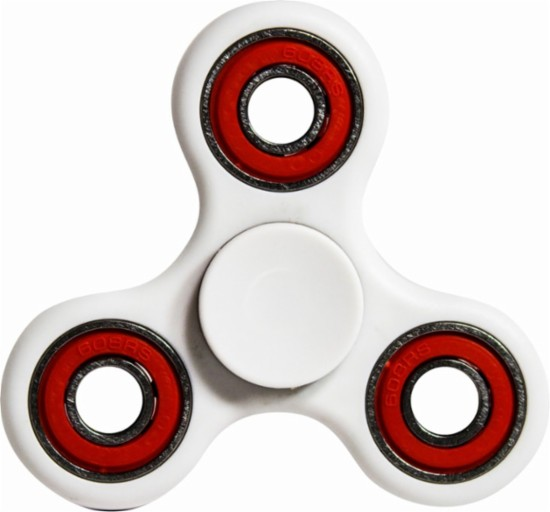fidget_spinner: (2, 4, 542, 498)
